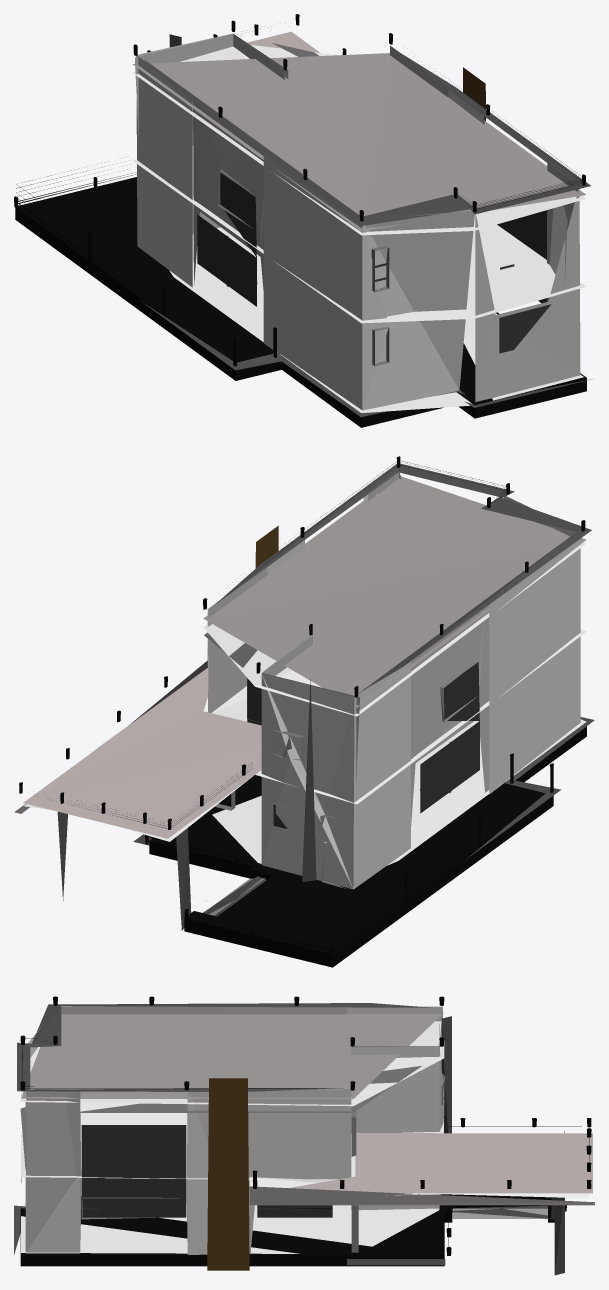
The model's file is house-7marla.lod1.glb.
3 views of the same model, one above another, from view 1: azimuth 30°, elevation 25°; view 2: azimuth 150°, elevation 25°; view 3: azimuth 270°, elevation 25° (orthographic). The views are drawn at different scales.
Parts seen in each view (by area): view 1: Line013_Material #10_0; view 2: Line013_Material #10_0; view 3: Line013_Material #10_0.
Part boxes in pixels (x1=…): Line013_Material #10_0: x1=14, y1=14, x2=592, y2=427; Line013_Material #10_0: x1=14, y1=456, x2=594, y2=967; Line013_Material #10_0: x1=14, y1=996, x2=594, y2=1275.
Bounding box in the file's own units: 9.14 × 6.45 × 17.71.
Materials: 1 (1 with a texture image).
